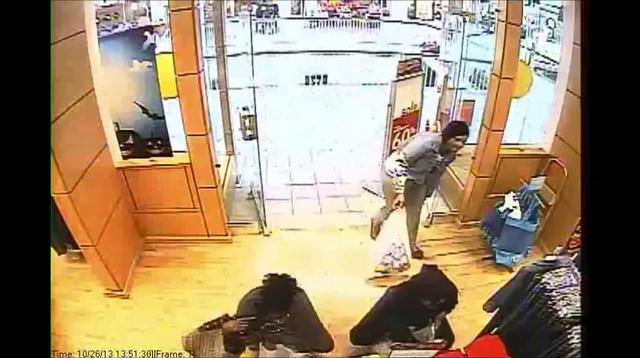3: (373, 86, 463, 203)
4: (225, 244, 339, 358), (350, 242, 456, 358)
persone: (373, 216, 422, 280)
